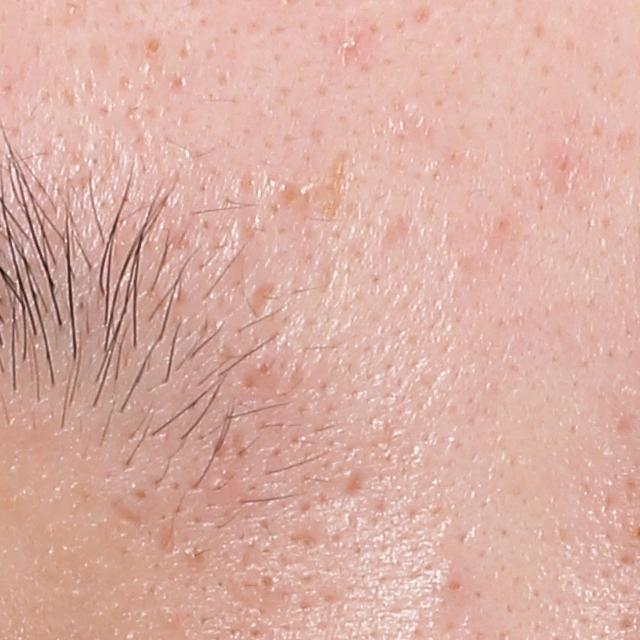atrophic_scar: (108, 496, 151, 529), (250, 273, 279, 319), (155, 514, 179, 565), (344, 465, 367, 496)
comedo: (254, 569, 282, 598), (144, 34, 166, 58), (444, 573, 466, 597)
